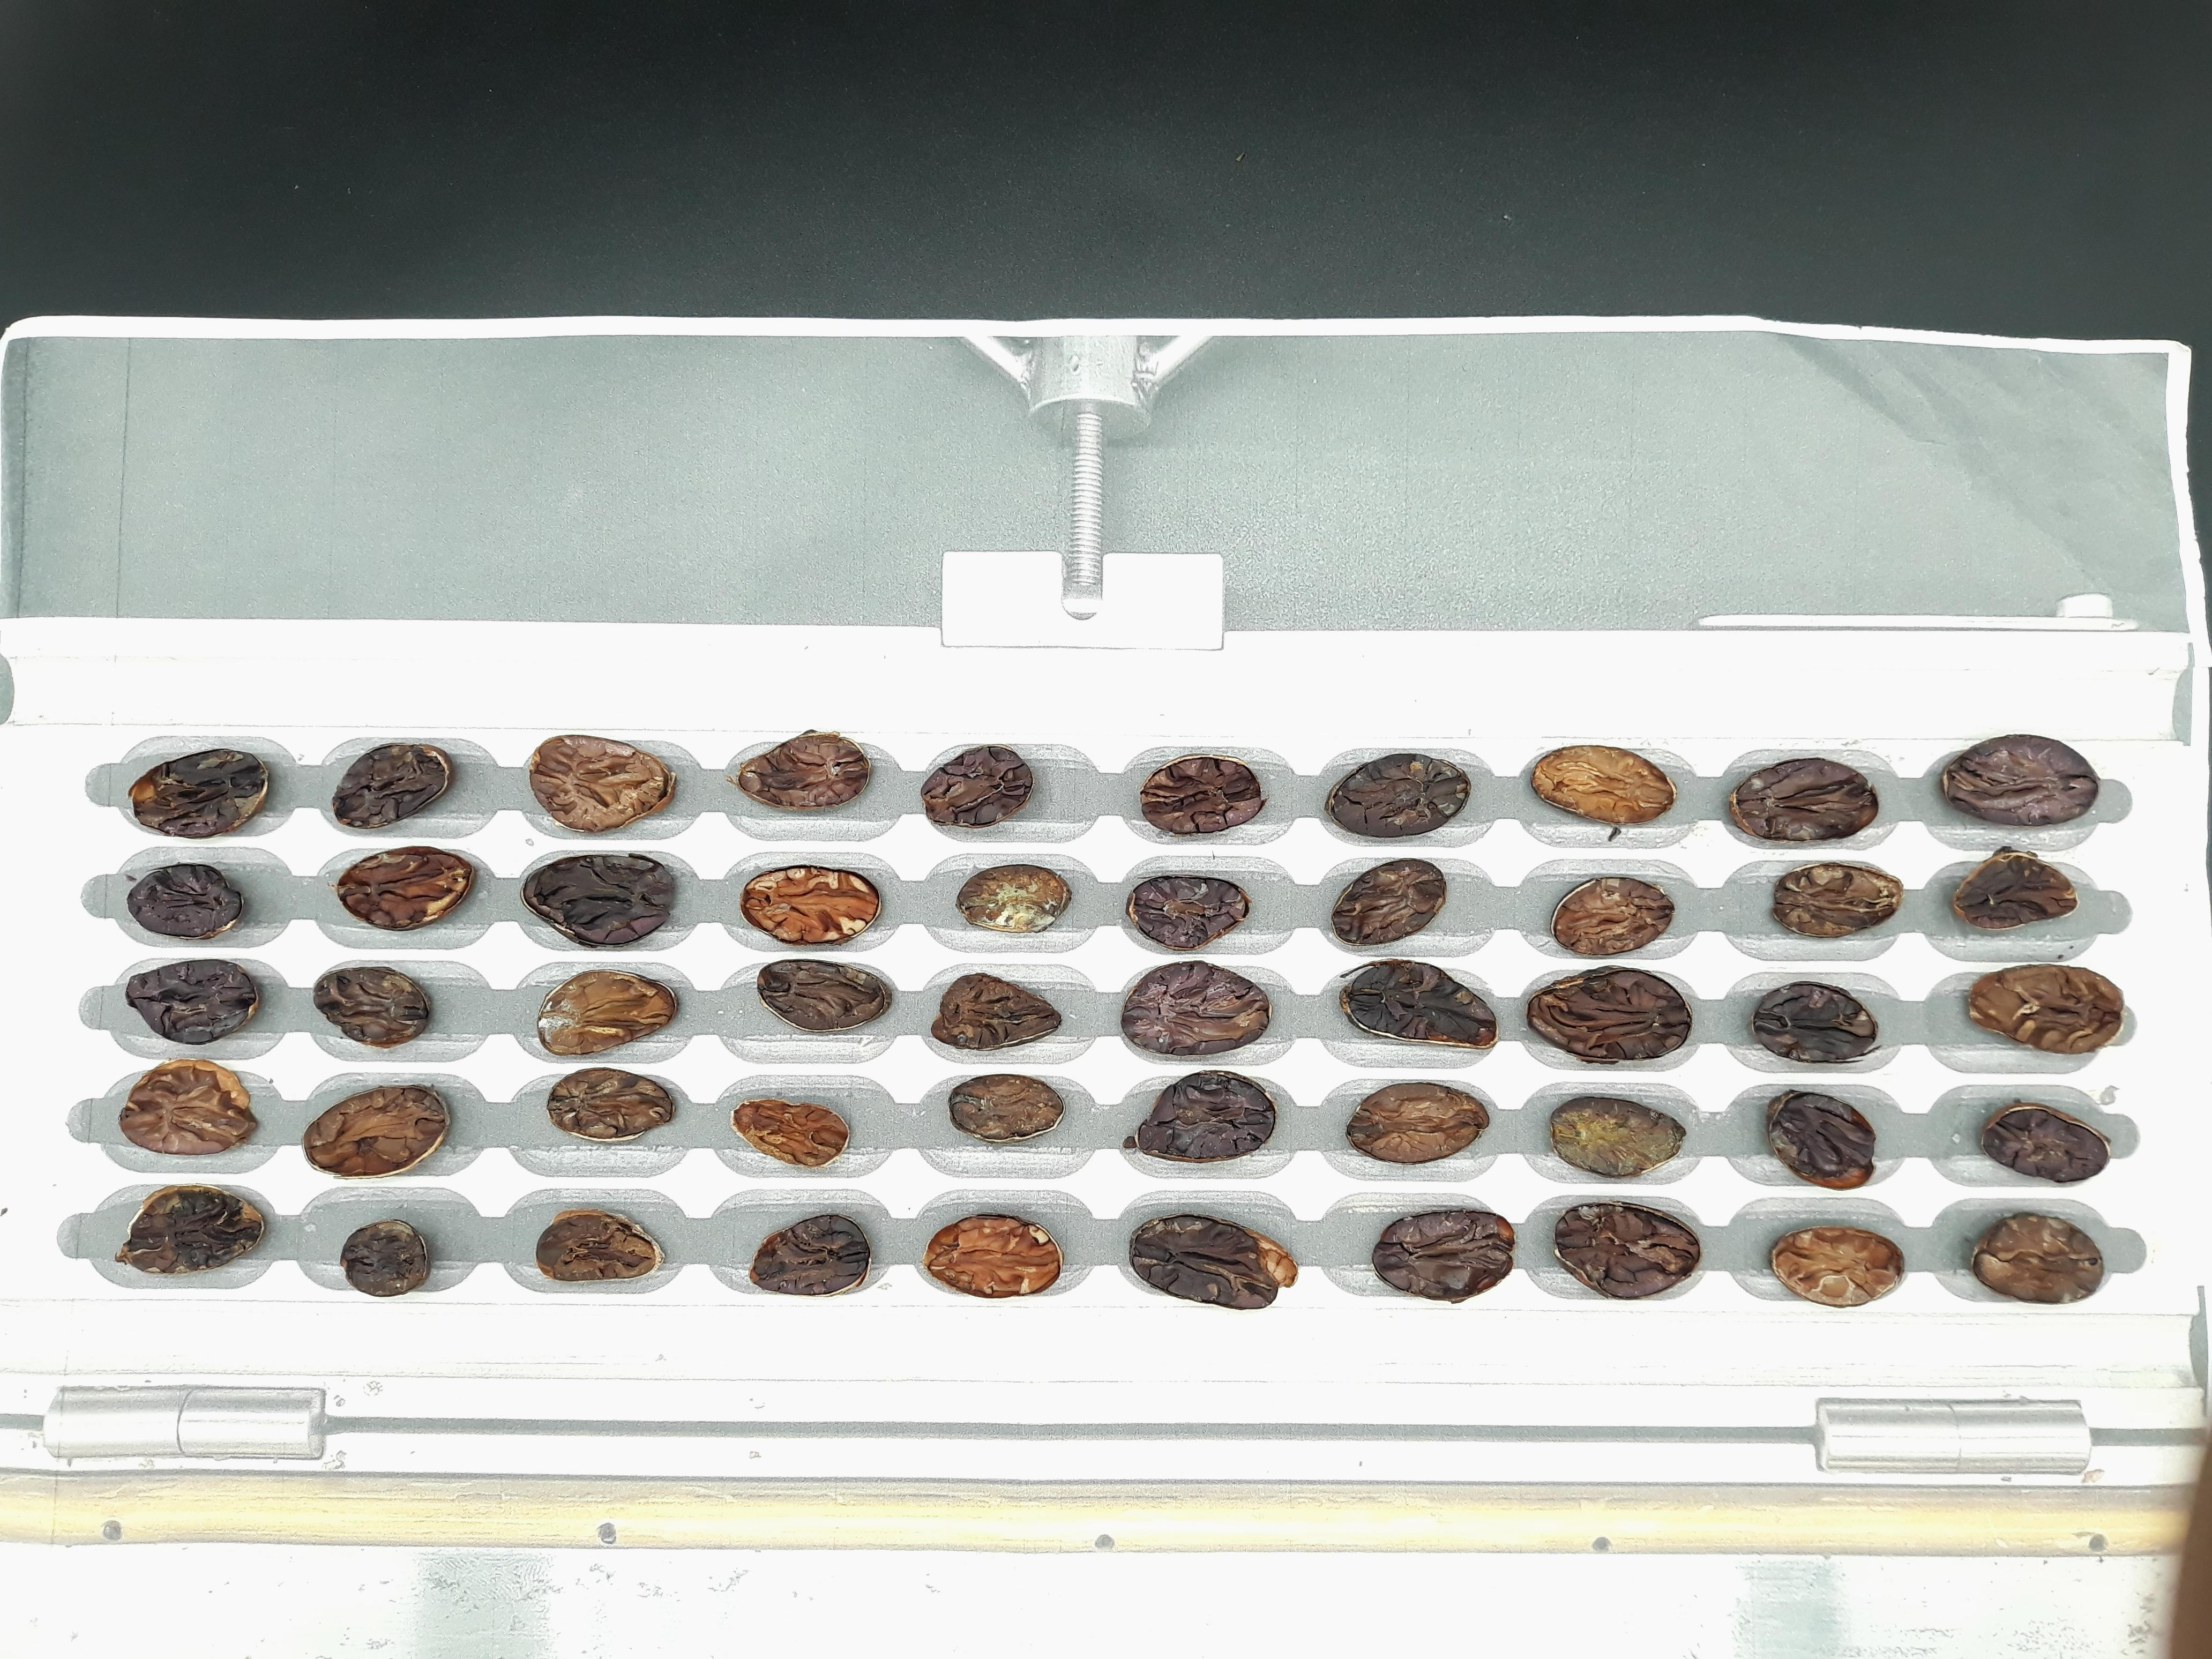Brown - G1: (1865, 476, 1963, 535), (1172, 521, 1249, 577), (1571, 598, 1649, 652), (1477, 425, 1559, 474), (1379, 526, 1458, 572), (1280, 418, 1355, 465), (1986, 425, 2064, 469), (1470, 540, 1543, 584)
Brown - G2: (1371, 359, 1454, 418), (2087, 476, 2174, 526), (1986, 605, 2067, 653), (1569, 477, 1648, 528), (1475, 357, 1552, 408), (1878, 430, 1952, 481)
Brown - G3: (1259, 533, 1345, 591), (2088, 596, 2163, 653), (1871, 364, 1951, 416), (1374, 594, 1451, 645), (1777, 535, 1858, 582)
Brown - G4: (1581, 526, 1648, 575)
Insect-damaged: (1876, 540, 1956, 591)
Mouldy: (1376, 477, 1456, 530), (1587, 423, 1653, 469)
Partly Purple - G1: (1369, 422, 1458, 472), (1674, 371, 1749, 422)
Partly Purple - G2: (1787, 594, 1872, 652), (1663, 474, 1750, 530), (1775, 472, 1862, 526), (1966, 373, 2055, 423), (1176, 369, 1256, 422), (1479, 598, 1555, 650), (1275, 366, 1345, 418), (1566, 368, 1635, 416)
Total Purple - G2: (1174, 471, 1251, 521), (1670, 430, 1738, 476)
Total Purple - G3: (2073, 357, 2161, 418), (1669, 528, 1752, 584), (2090, 544, 2172, 591), (1172, 425, 1244, 471)
Very Dark Brown - G1: (1669, 601, 1766, 657), (1169, 586, 1252, 636), (1986, 538, 2055, 594)
Very Dark Brown - G2: (1881, 591, 1965, 652), (1979, 481, 2055, 537), (1766, 416, 1839, 474), (1264, 476, 1338, 525), (2081, 416, 2151, 467)
Very Dark Brown - G3: (1768, 368, 1850, 422), (1486, 472, 1562, 518), (1278, 601, 1334, 648)
